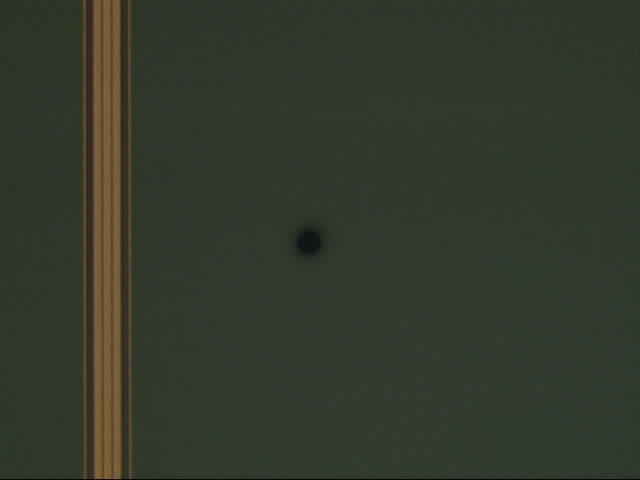PIQ PARTICLE: (286, 220, 334, 268)
